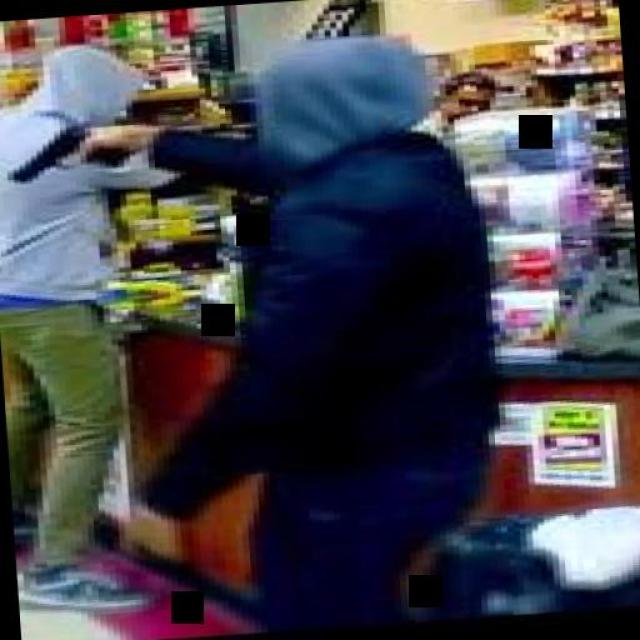gun: (0, 115, 138, 183)
